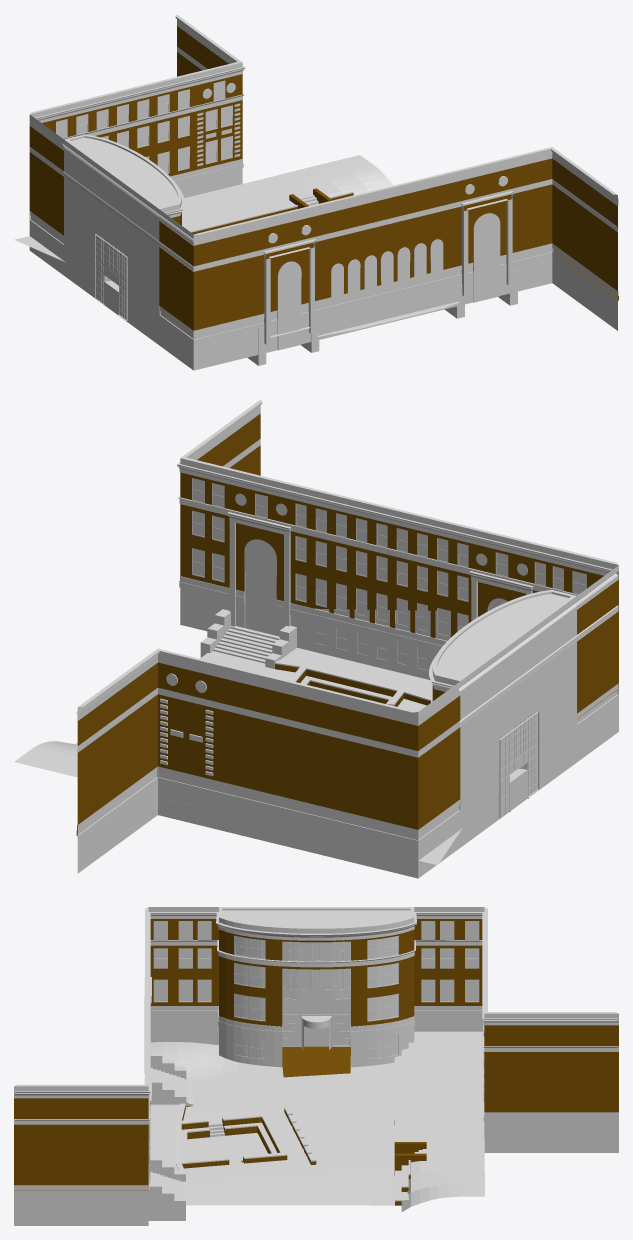
File: cech entrance -joined-FINAL.fbx
The picture shows the model from 3 angles, top to bottom: view 1: azimuth 30°, elevation 25°; view 2: azimuth 150°, elevation 25°; view 3: azimuth 270°, elevation 25°; orthographic projection. The views are drawn at different scales.
Parts seen in each view (by area): view 1: 00building-no-windows-bricks.002; view 2: 00building-no-windows-bricks.002; view 3: 00building-no-windows-bricks.002.
Boxes of the visible parts, bbox=[...] form: 00building-no-windows-bricks.002: bbox=[14, 14, 618, 370]; 00building-no-windows-bricks.002: bbox=[14, 399, 618, 878]; 00building-no-windows-bricks.002: bbox=[14, 907, 618, 1225].
Size of the model in its own units: 23544 by 8873 by 32019.
